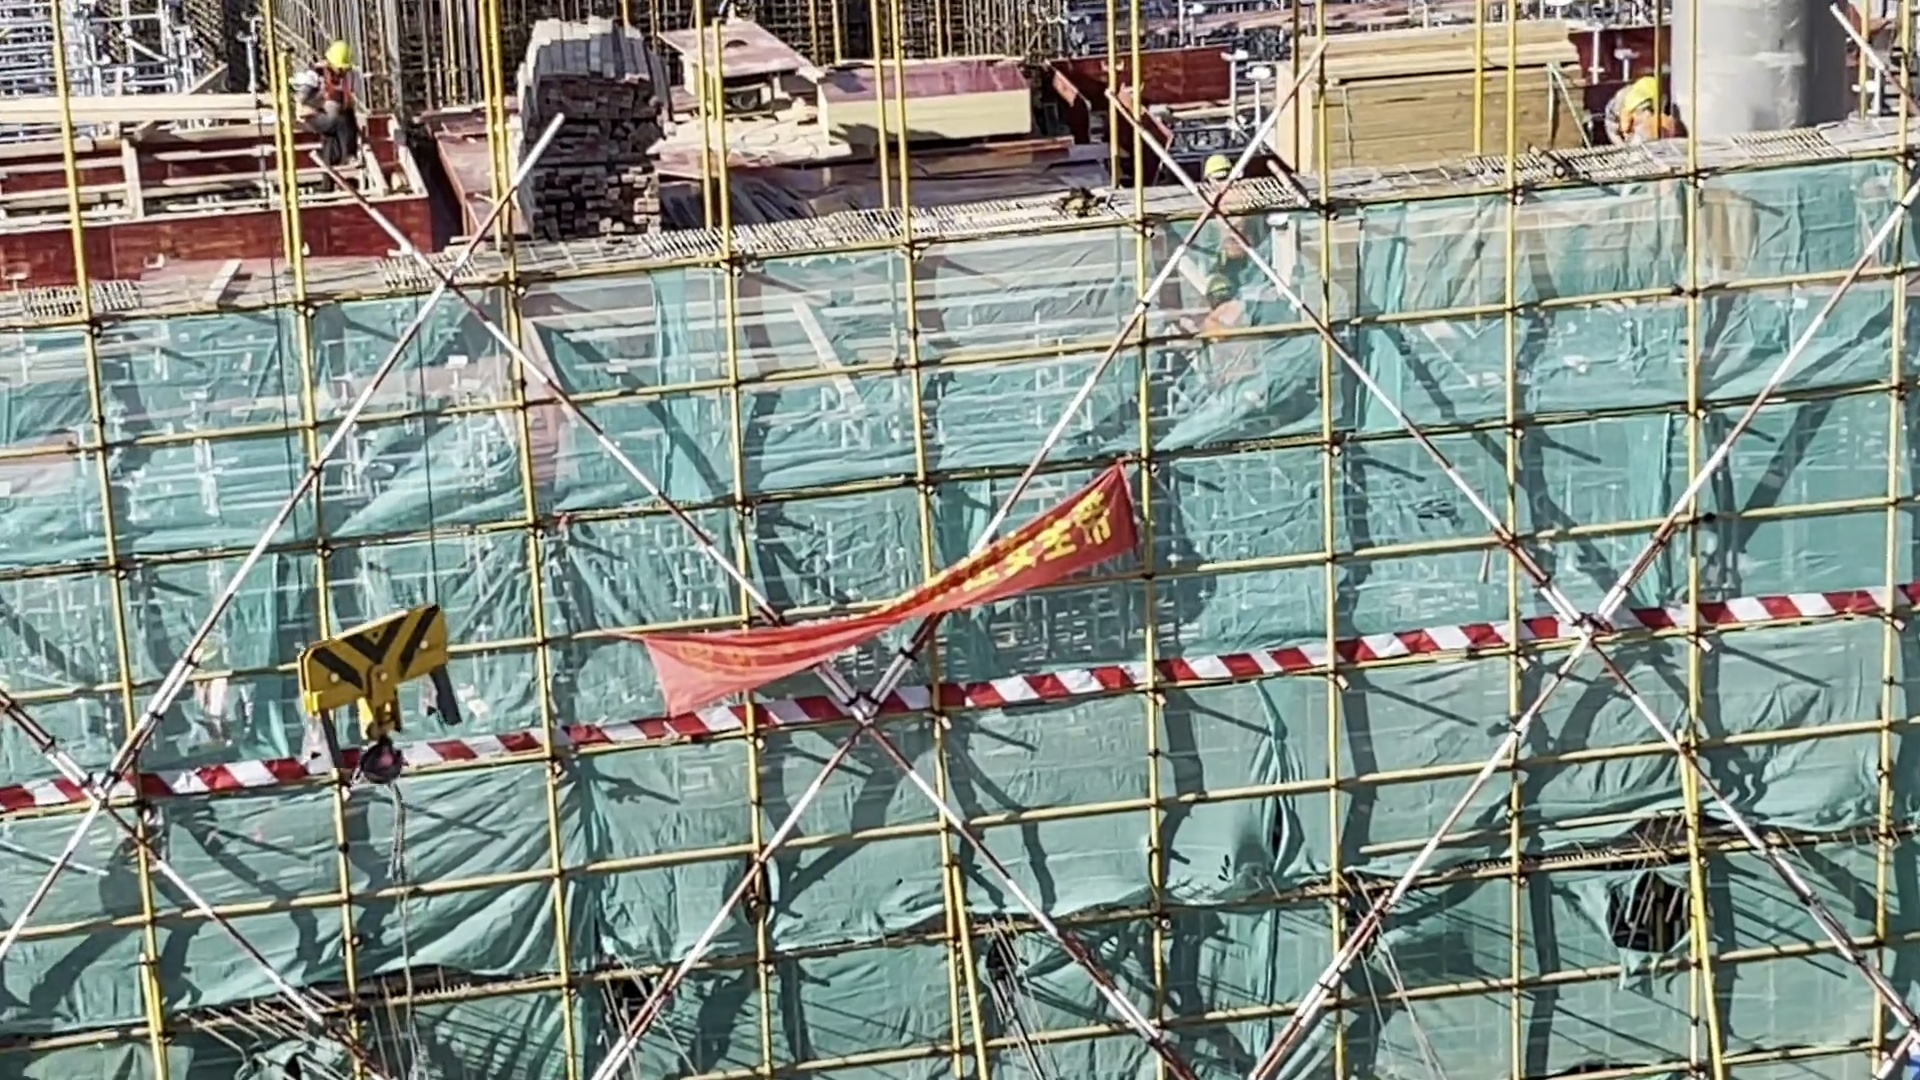cutter: (709, 30, 763, 60)
helmet: (320, 34, 363, 64)
hook: (286, 599, 473, 778)
person: (292, 40, 369, 169), (1606, 67, 1683, 148)
slogan: (622, 455, 1183, 722)
wood: (1270, 22, 1599, 170), (505, 6, 686, 225)
